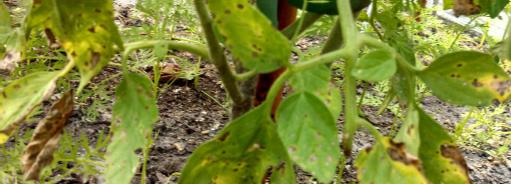Tomato Septoria leaf spot: (38, 0, 131, 88), (271, 90, 344, 183), (101, 71, 157, 184), (208, 0, 289, 78), (421, 48, 511, 116), (401, 108, 481, 184), (0, 68, 66, 153), (356, 134, 443, 184)
